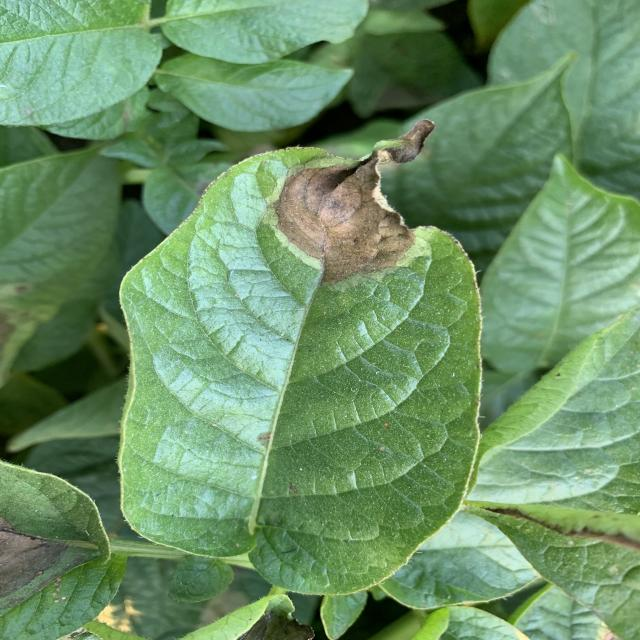lateblight: (273, 119, 435, 282)
